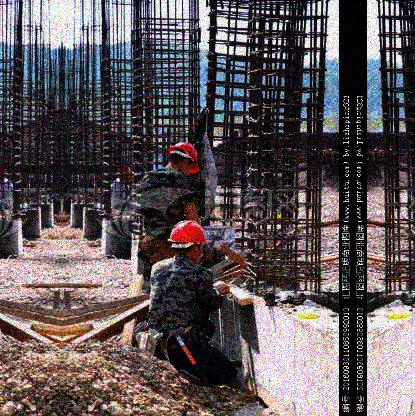helmet: (168, 219, 208, 265), (167, 142, 201, 179)
